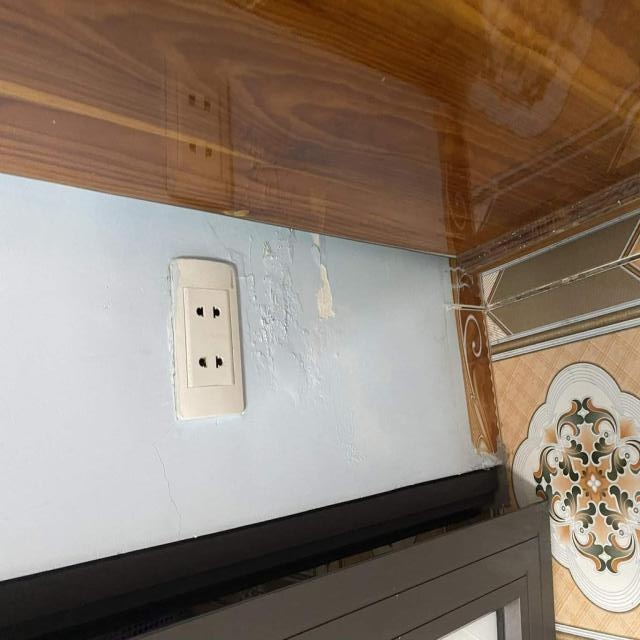outlet: (167, 257, 245, 422)
